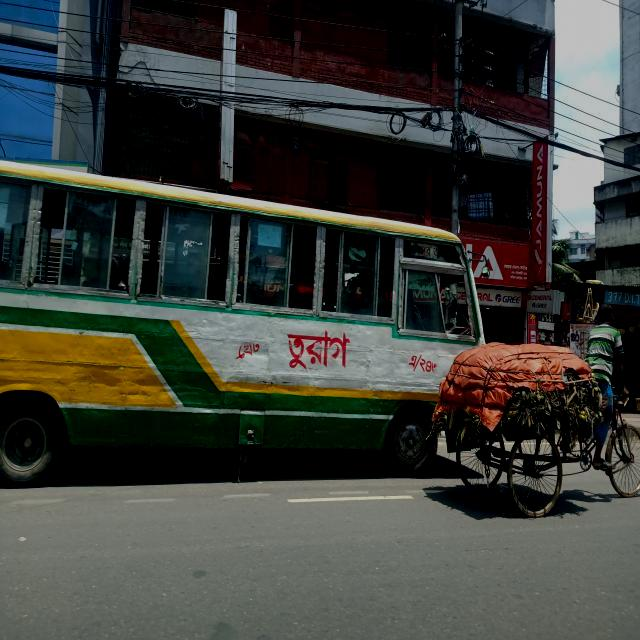bus: (2, 158, 486, 490)
